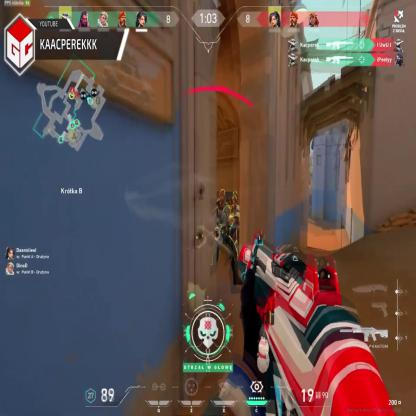enemy: (208, 189, 238, 291), (228, 192, 242, 266)
enemy_head: (232, 192, 237, 206), (220, 190, 225, 203)
